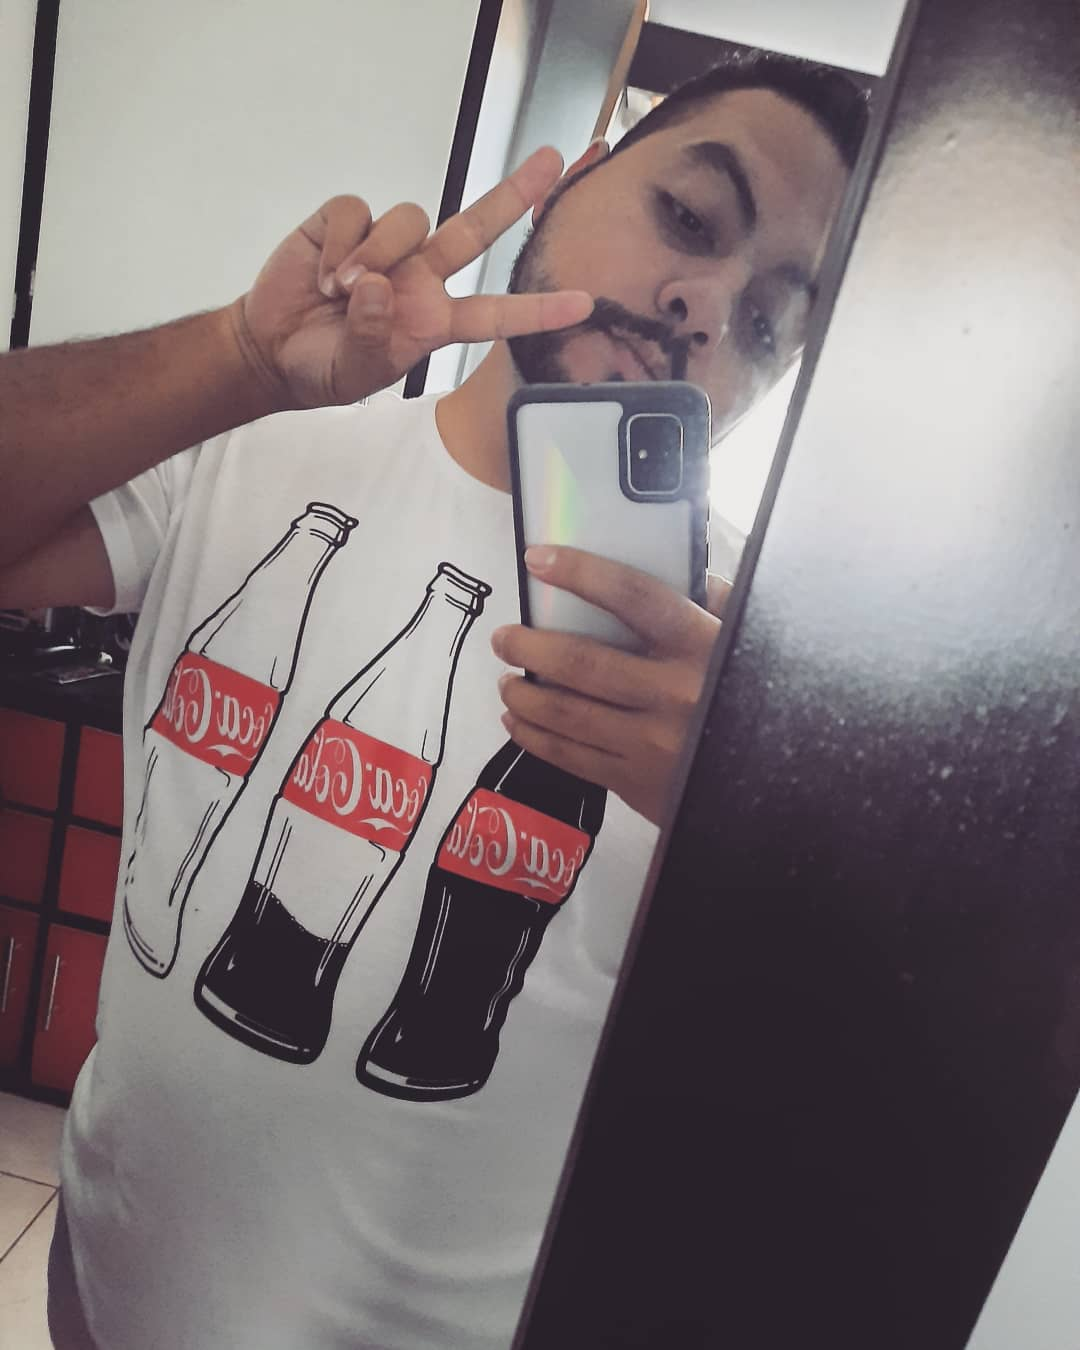Yoshi: (72, 34, 903, 990)
